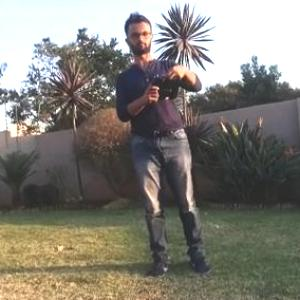follow: (112, 5, 218, 288)
